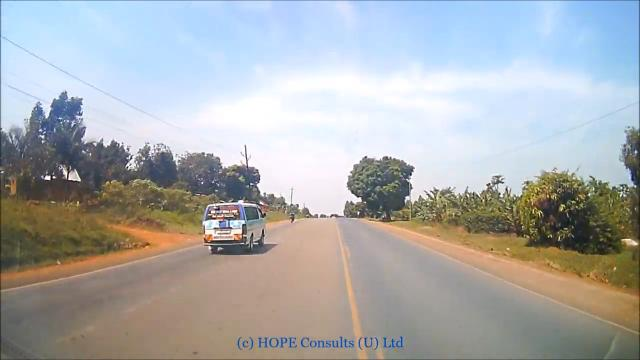motorcycle: (289, 209, 295, 226)
van: (201, 199, 268, 254)
